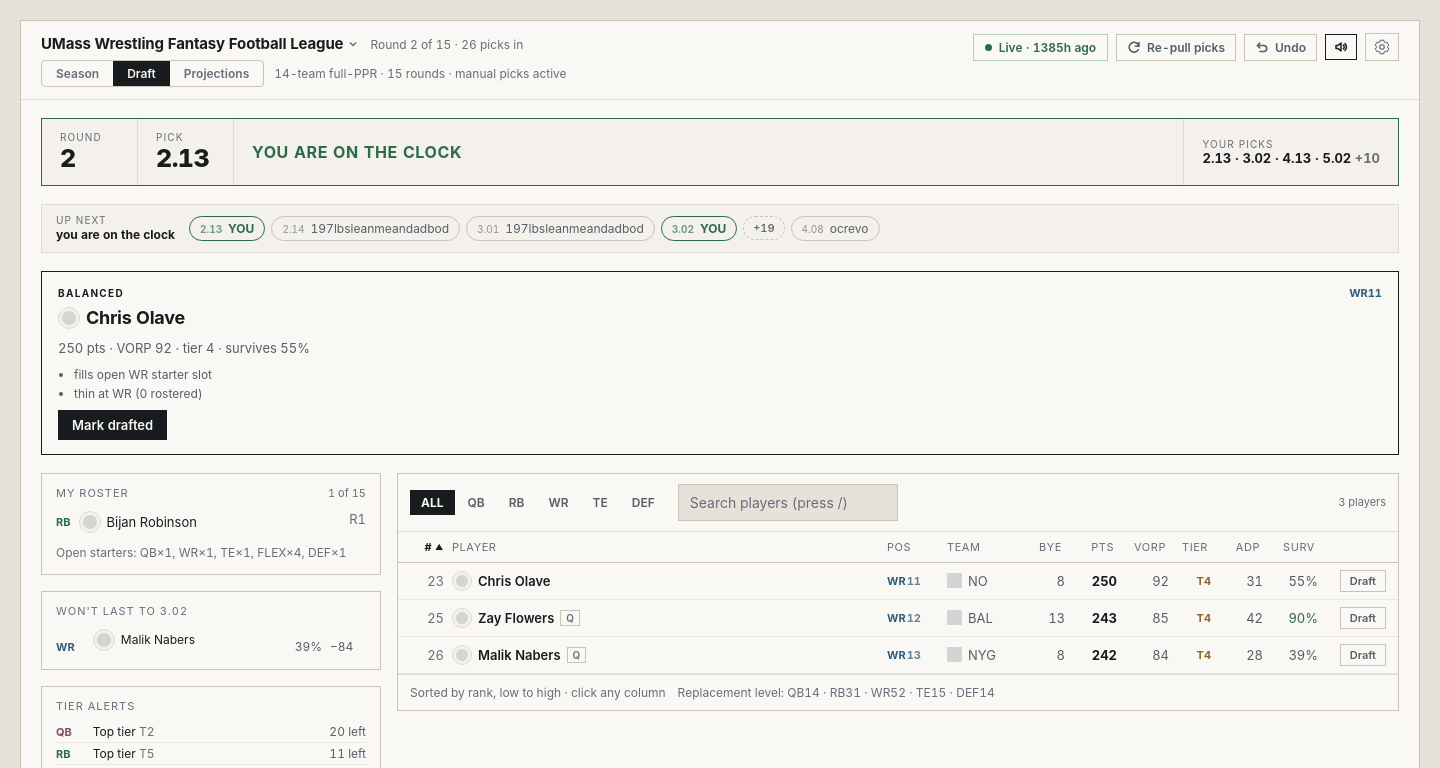
it: the import projections row › shows the backend's plain-words complaint about a file it cannot read
The image size is (1440, 768).
Expected: the button "UMass Wrestling Fantasy Football League" is shown, top-left (41, 33), bottom-right (354, 54)
Click the button named "Settings" at (1382, 47), box top-left (1365, 33), bottom-right (1399, 61)
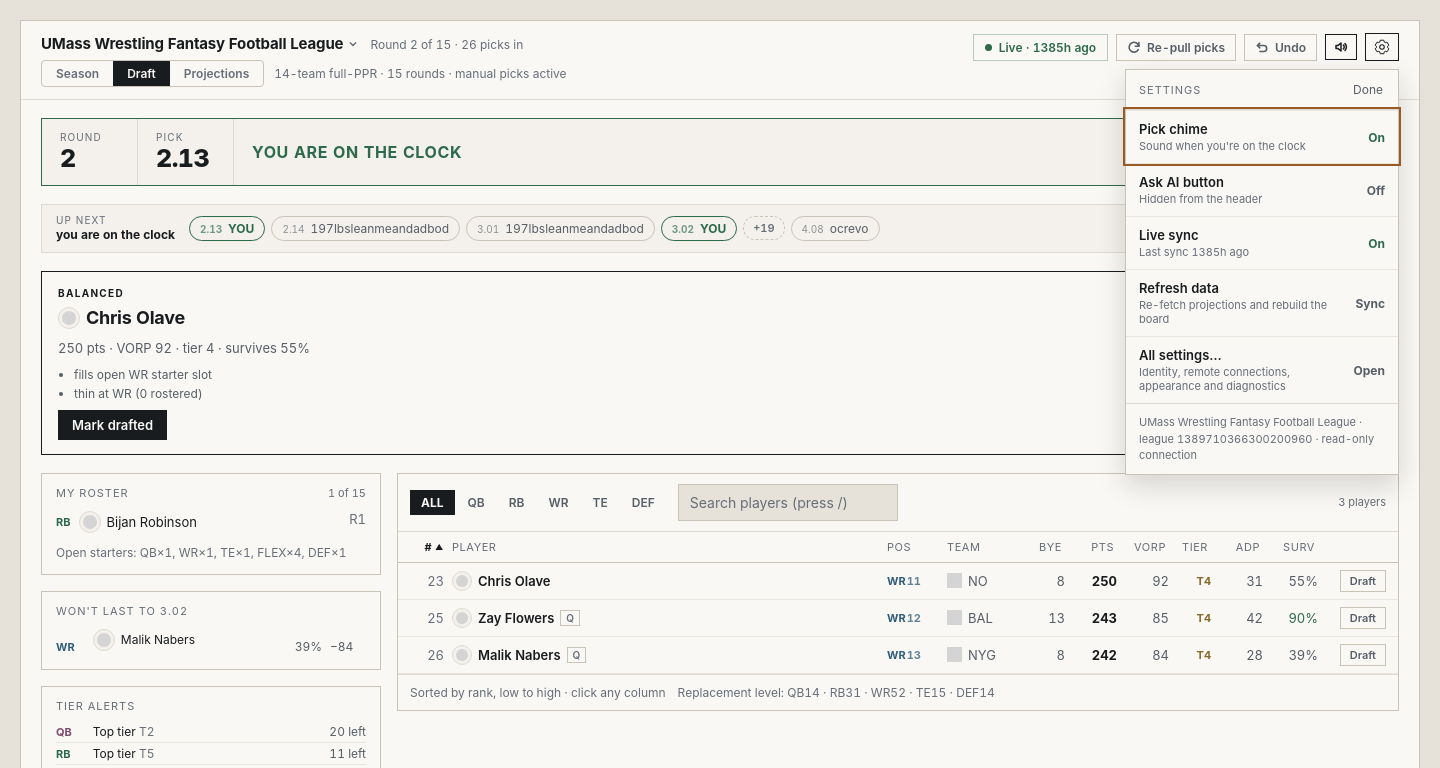
Click the menu item "All settings" at (1262, 370), box top-left (1126, 336), bottom-right (1398, 403)
(page scrolled)
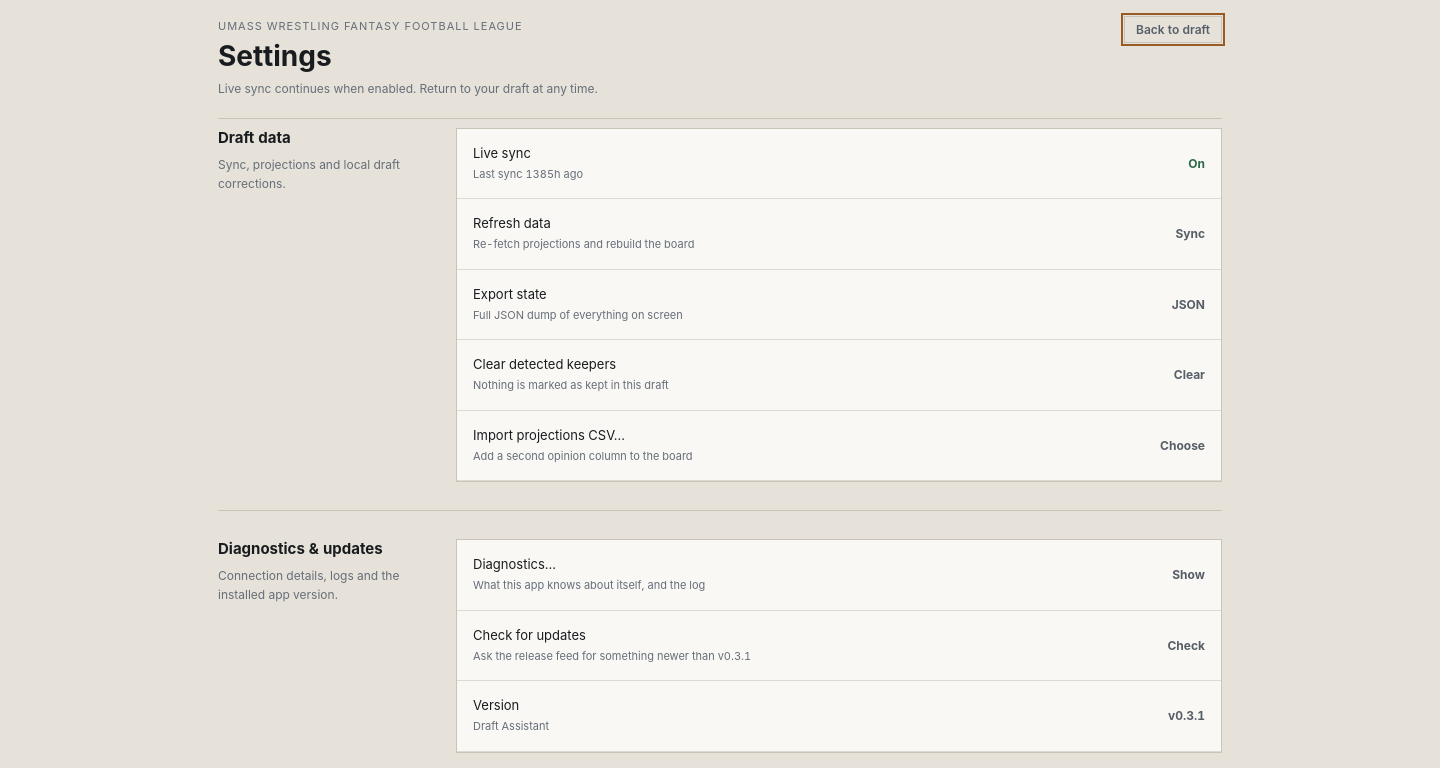
Click the button "Import projections CSV" at (549, 435), box top-left (457, 411), bottom-right (1221, 481)
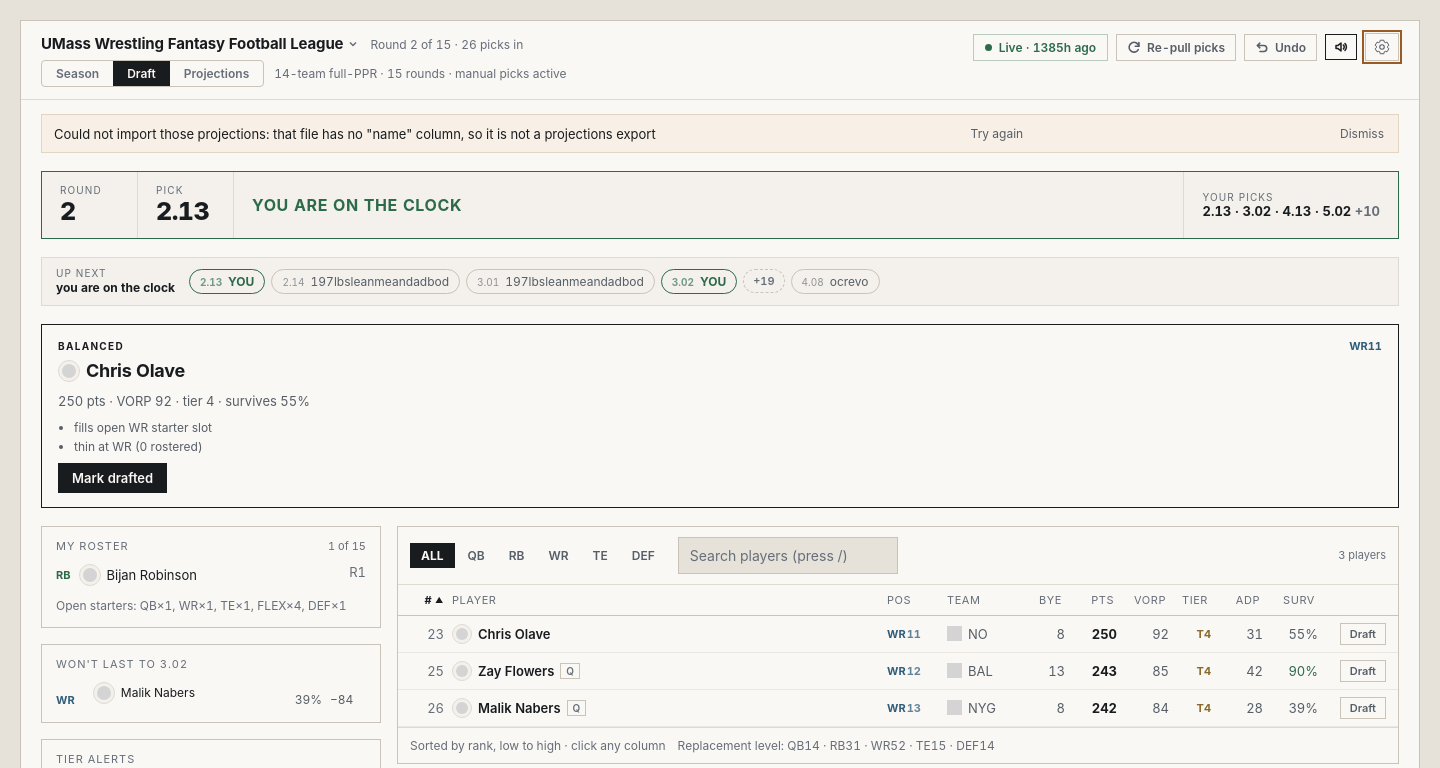
Expected: the text "no \"name\" column" is shown, top-left (54, 126), bottom-right (656, 142)
Expected: the button "Try again" is shown, top-left (969, 124), bottom-right (1025, 143)
